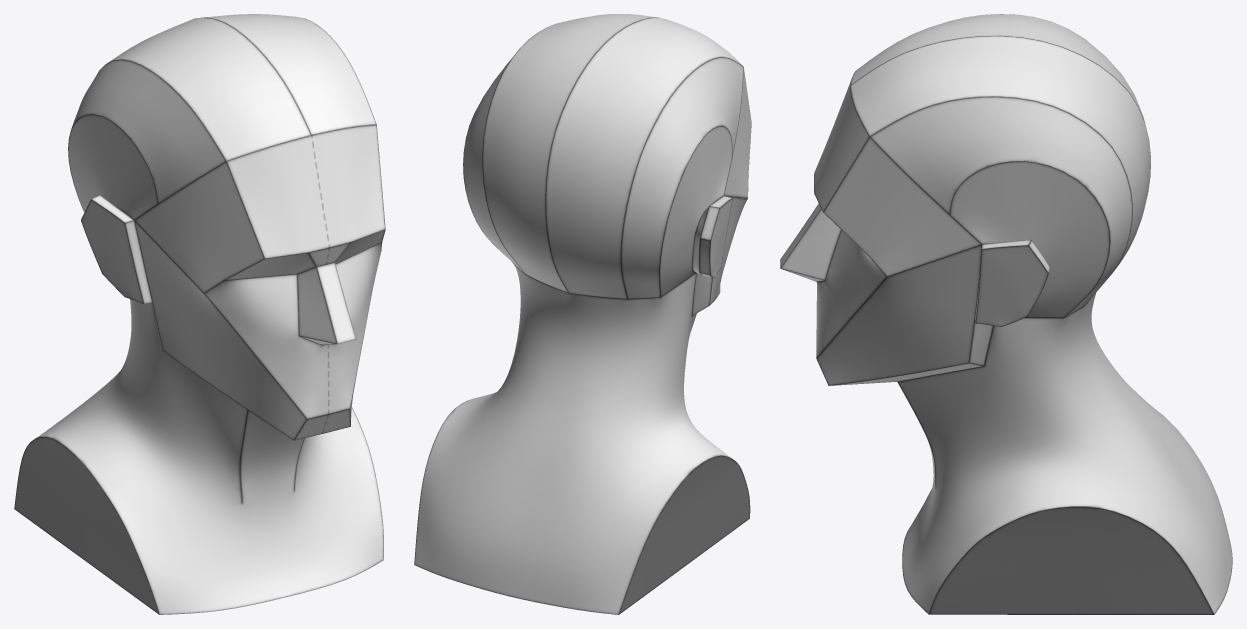
File: Loomis_3D_Project1.fbx
3 renders of one model, left to right at view 1: azimuth 30°, elevation 25°; view 2: azimuth 150°, elevation 25°; view 3: azimuth 270°, elevation 25°, orthographic. The views are drawn at different scales.
Parts seen in each view (by area): view 1: Basic_Planes_of_the_Head; view 2: Basic_Planes_of_the_Head; view 3: Basic_Planes_of_the_Head.
Part boxes in pixels (x1,y1,x2,y2): Basic_Planes_of_the_Head: (14, 14, 385, 614); Basic_Planes_of_the_Head: (414, 14, 751, 614); Basic_Planes_of_the_Head: (780, 14, 1232, 614).
Bounding box in the file's own units: 19.28 × 36.87 × 28.8.
1 material, 1 textured.
